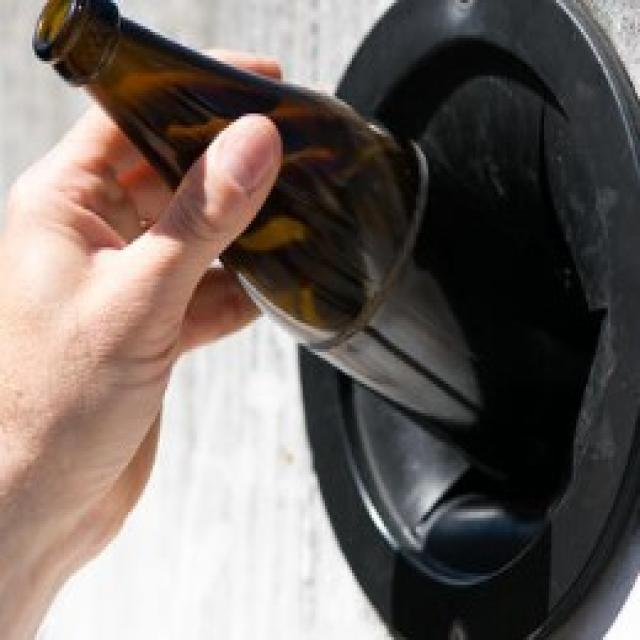electronic: (32, 0, 594, 511)
